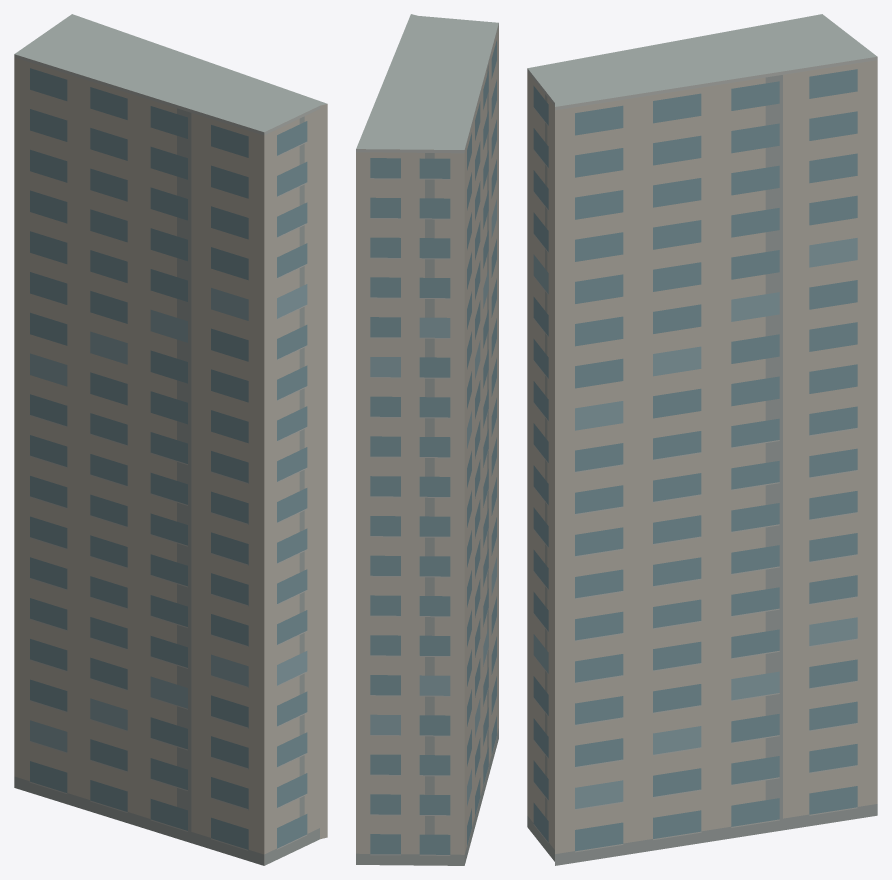
File: survey-upis-32968800.glb
3 renders of one model, left to right at view 1: azimuth 30°, elevation 25°; view 2: azimuth 150°, elevation 25°; view 3: azimuth 270°, elevation 25°, orthographic. The views are drawn at different scales.
Visible parts, largest first — view 1: survey-upis-32968800.tmp; view 2: survey-upis-32968800.tmp; view 3: survey-upis-32968800.tmp.
Boxes of the visible parts, x1,y1,x2,y2 form: survey-upis-32968800.tmp: [14, 14, 327, 865]; survey-upis-32968800.tmp: [356, 14, 498, 865]; survey-upis-32968800.tmp: [527, 14, 877, 865].
Size of the model in its own units: 14.43 by 54.9 by 22.96.
